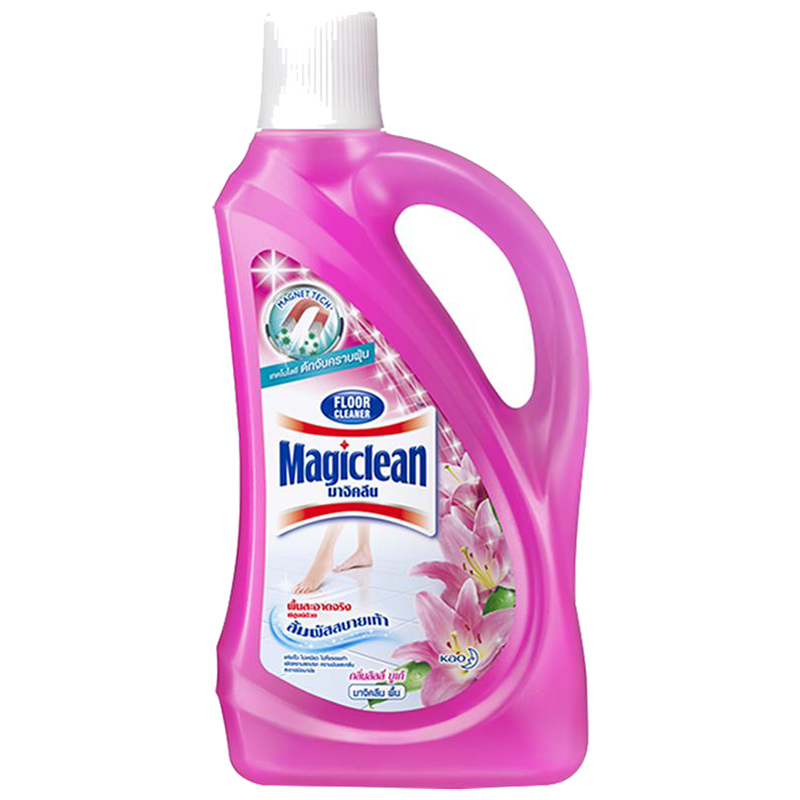Cleaning_solution: (213, 7, 600, 791)
